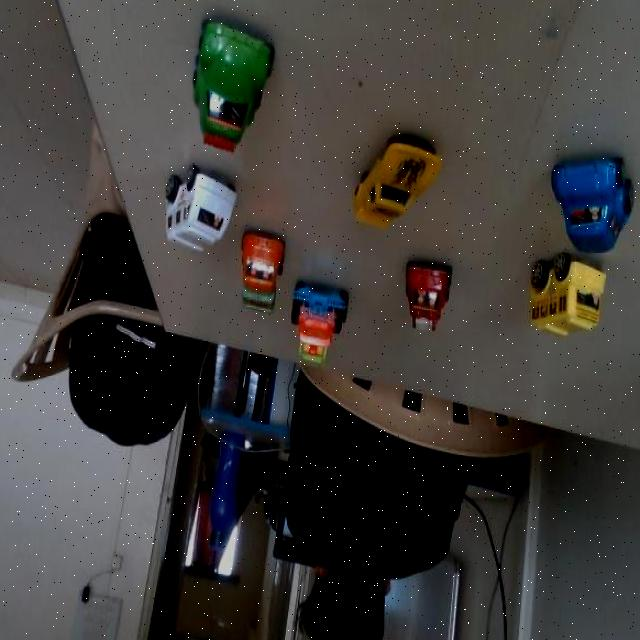car: (124, 0, 314, 183), (136, 136, 255, 282), (324, 120, 456, 241), (547, 146, 630, 256), (515, 243, 597, 338), (226, 216, 292, 333), (286, 283, 361, 378), (392, 248, 457, 340)
